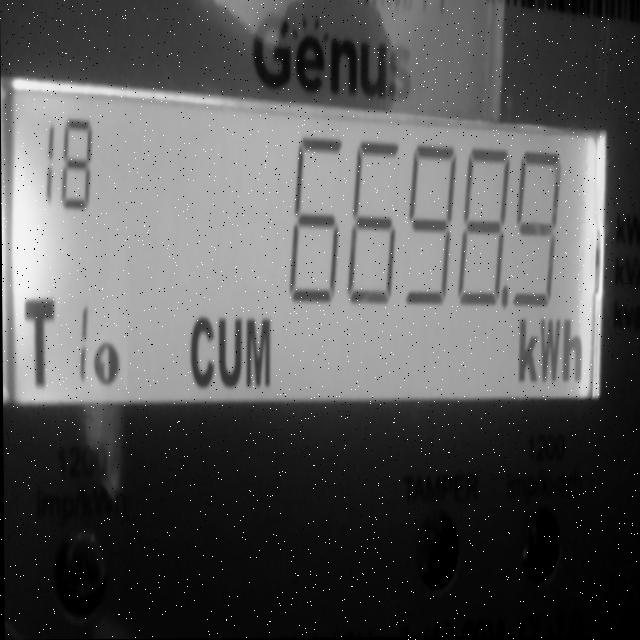.: (502, 286, 512, 308)
1: (46, 123, 54, 200)
6: (290, 141, 339, 301), (353, 140, 396, 301)
8: (460, 150, 506, 306), (63, 121, 93, 213)
9: (406, 146, 455, 307), (517, 151, 560, 307)
